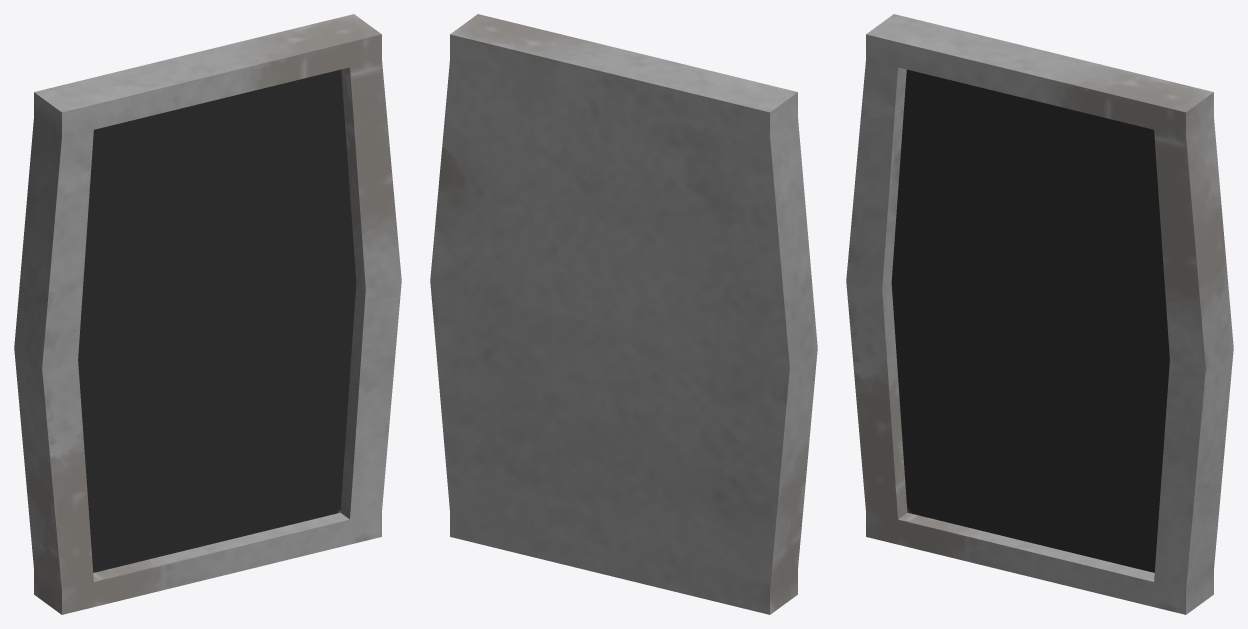
The model's file is SM_window_a.fbx.
3 views of the same model, side by side, from view 1: azimuth 30°, elevation 25°; view 2: azimuth 150°, elevation 25°; view 3: azimuth 330°, elevation 25° (orthographic).
Visible parts, largest first — view 1: SM_Window_a_01; view 2: SM_Window_a_01; view 3: SM_Window_a_01.
Part boxes in pixels (bbox=[...]): SM_Window_a_01: bbox=[14, 14, 401, 614]; SM_Window_a_01: bbox=[430, 14, 817, 614]; SM_Window_a_01: bbox=[846, 14, 1233, 614].
Bounding box in the file's own units: 1.12 × 1.5 × 0.151.
